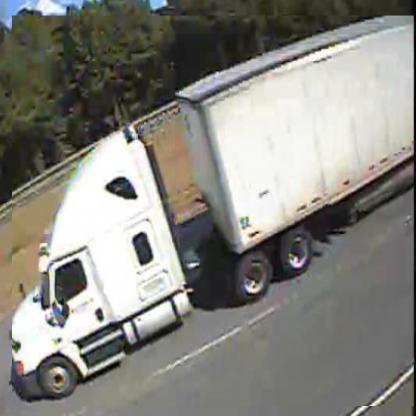container: (12, 17, 415, 408)
